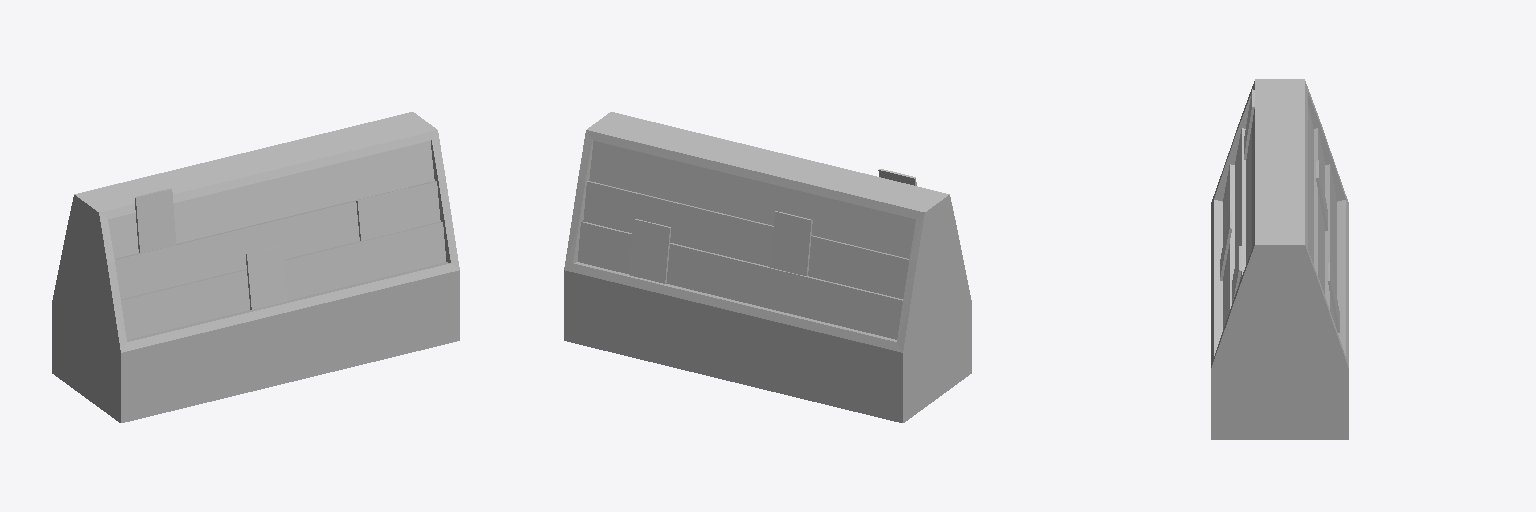
Rendered from hor1 konobi.obj.
3 views of the same model, side by side, from view 1: azimuth 30°, elevation 25°; view 2: azimuth 150°, elevation 25°; view 3: azimuth 270°, elevation 25° (orthographic).
Parts seen in each view (by area): view 1: Plane.034_Plane.022; view 2: Plane.034_Plane.022; view 3: Plane.034_Plane.022.
Part boxes in pixels (left/top/right/bottom): Plane.034_Plane.022: left=52, top=112, right=459, bottom=422; Plane.034_Plane.022: left=564, top=112, right=971, bottom=422; Plane.034_Plane.022: left=1211, top=79, right=1348, bottom=439.
Size of the model in its own units: 2 by 1.14 by 0.705.